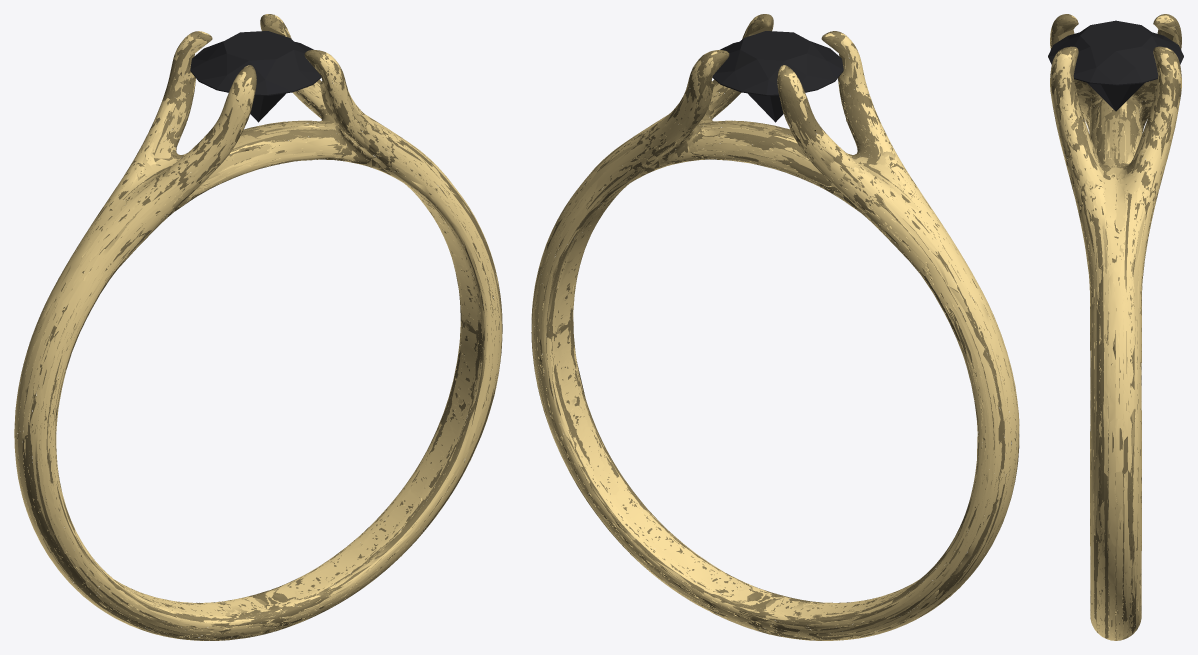
The model's file is ring_round.glb.
3 renders of one model, left to right at view 1: azimuth 30°, elevation 25°; view 2: azimuth 150°, elevation 25°; view 3: azimuth 270°, elevation 25°, orthographic.
Visible parts, largest first — view 1: Band, Diamond; view 2: Band, Diamond; view 3: Band, Diamond.
Part boxes in pixels (box(x1,y1,x2,y2)): Band: box(14, 14, 502, 640); Diamond: box(190, 31, 321, 122); Band: box(531, 14, 1019, 640); Diamond: box(712, 31, 843, 122); Band: box(1050, 14, 1181, 640); Diamond: box(1048, 20, 1183, 111).
Bounding box in the file's own units: 20.18 × 23.68 × 5.
Materials: 2 (1 with a texture image).
